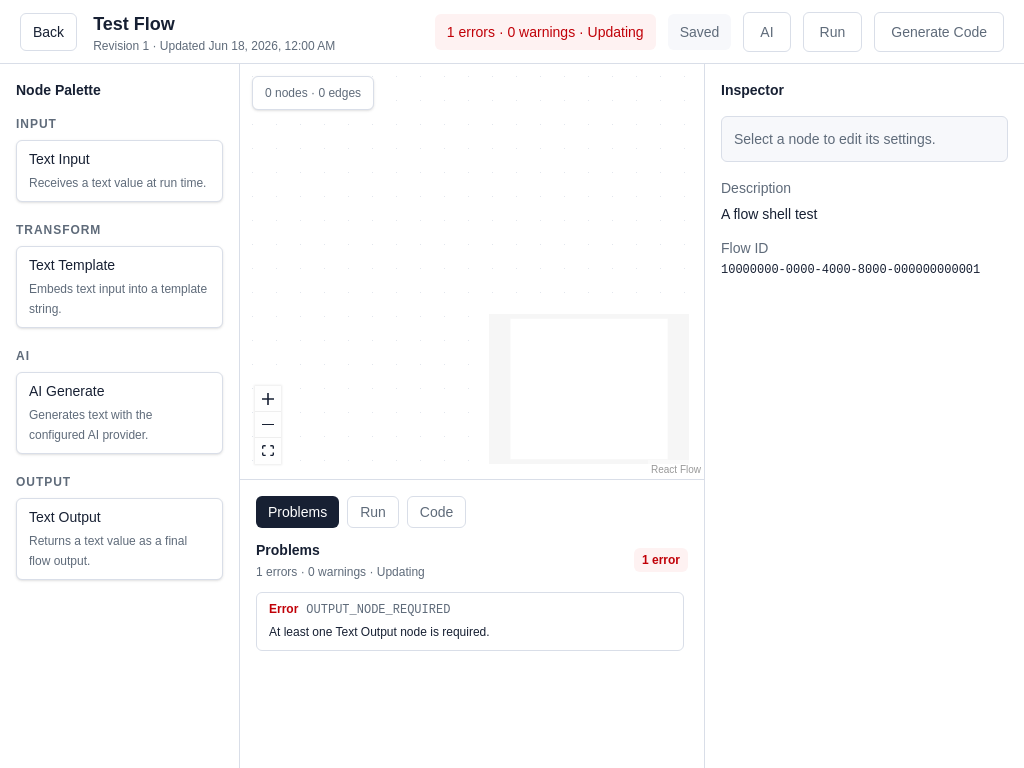
Test case: EditorShell › opens the AI generation dialog from the top bar
Click the button with aria-label "Generate with AI".
click(767, 32)  # box [743,12,790,52]
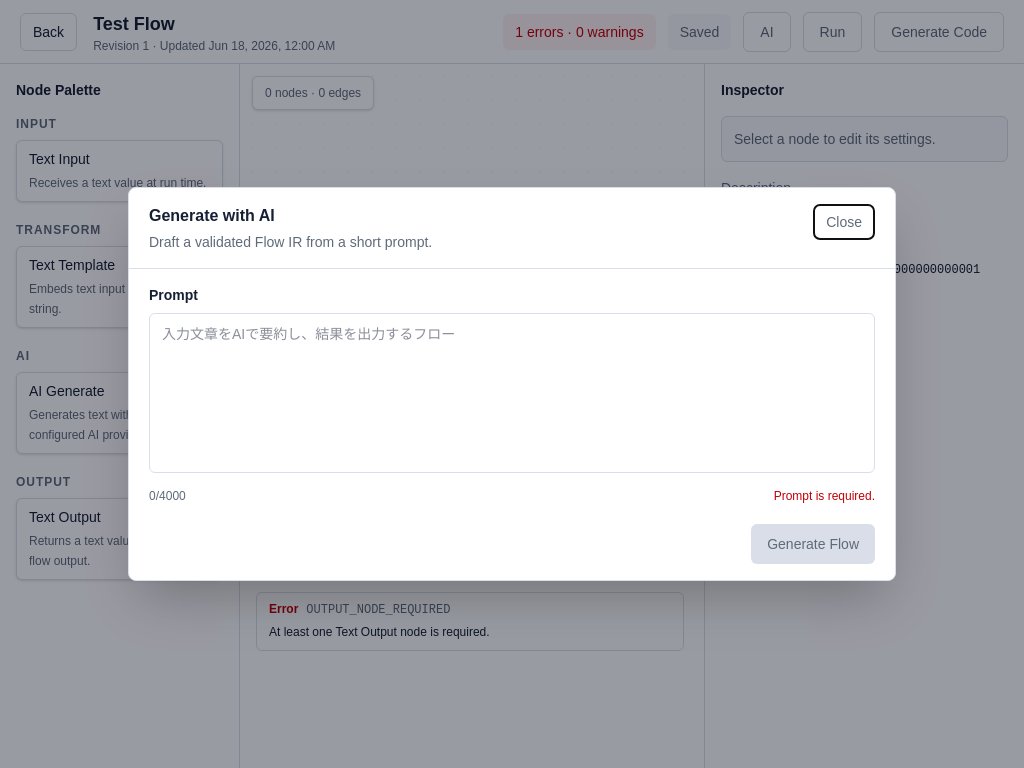
Result: the dialog "Generate with AI" is shown at [128,187,896,581]
Result: the text box labelled "Prompt" is shown at [149,313,875,473]
